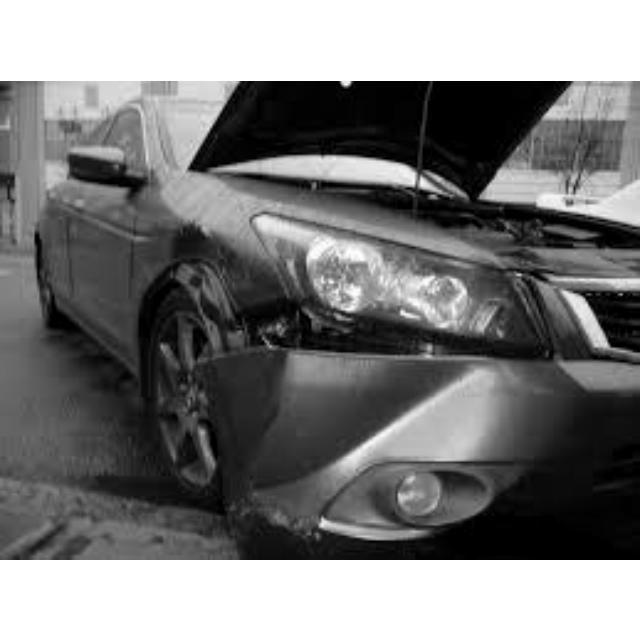front-bumper-dent: (221, 352, 584, 534)
